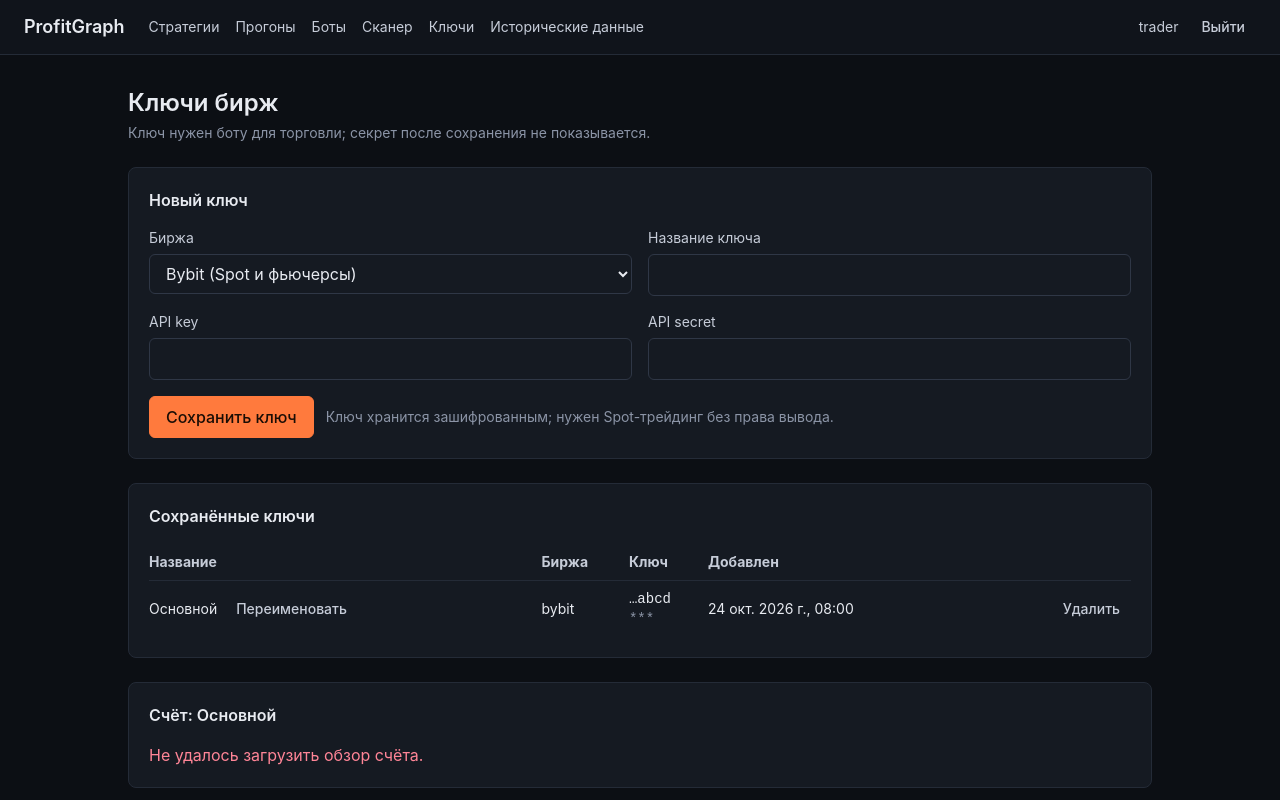
Test case: renaming › renames a key from the list
Click the button "Переименовать" at (292, 609), box [225,594,358,624]
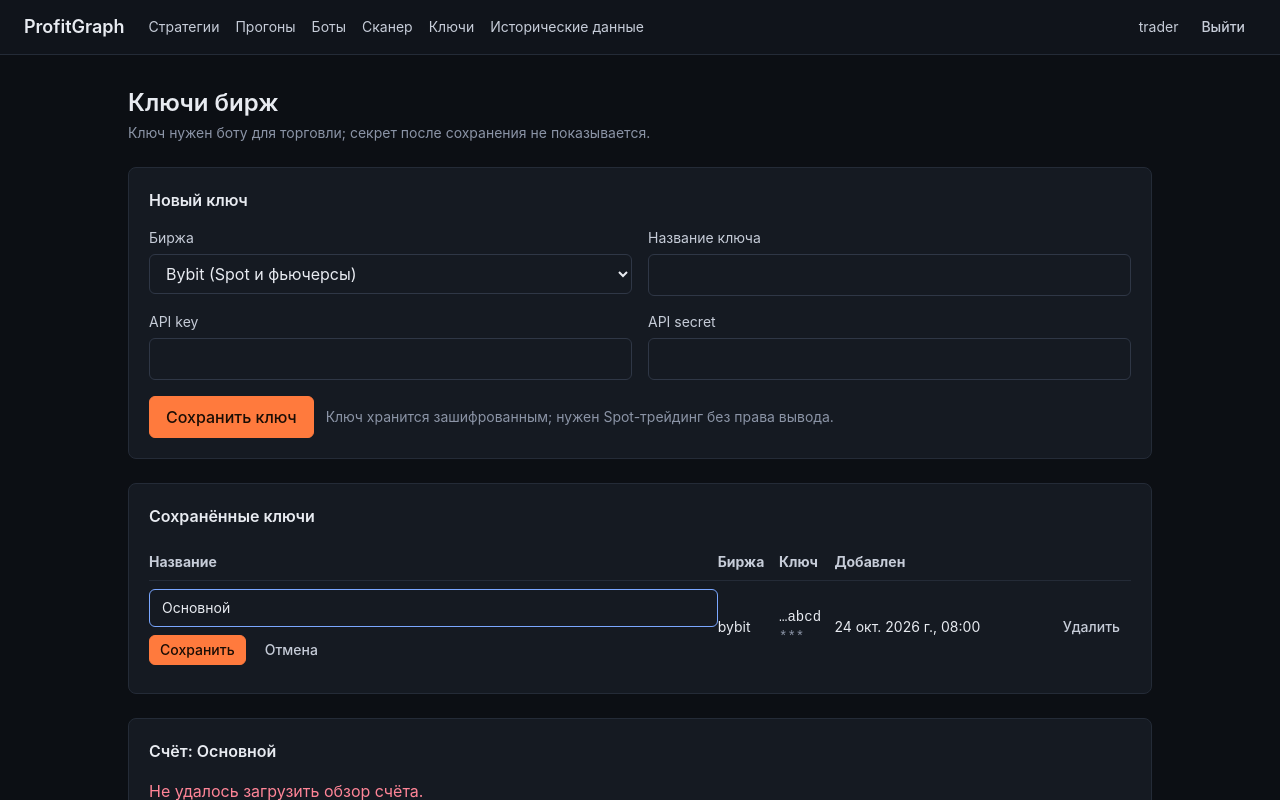
Replace the text in the field named "Название ключа Основной" with "Рабочий" at (433, 608), box [149,589,718,627]
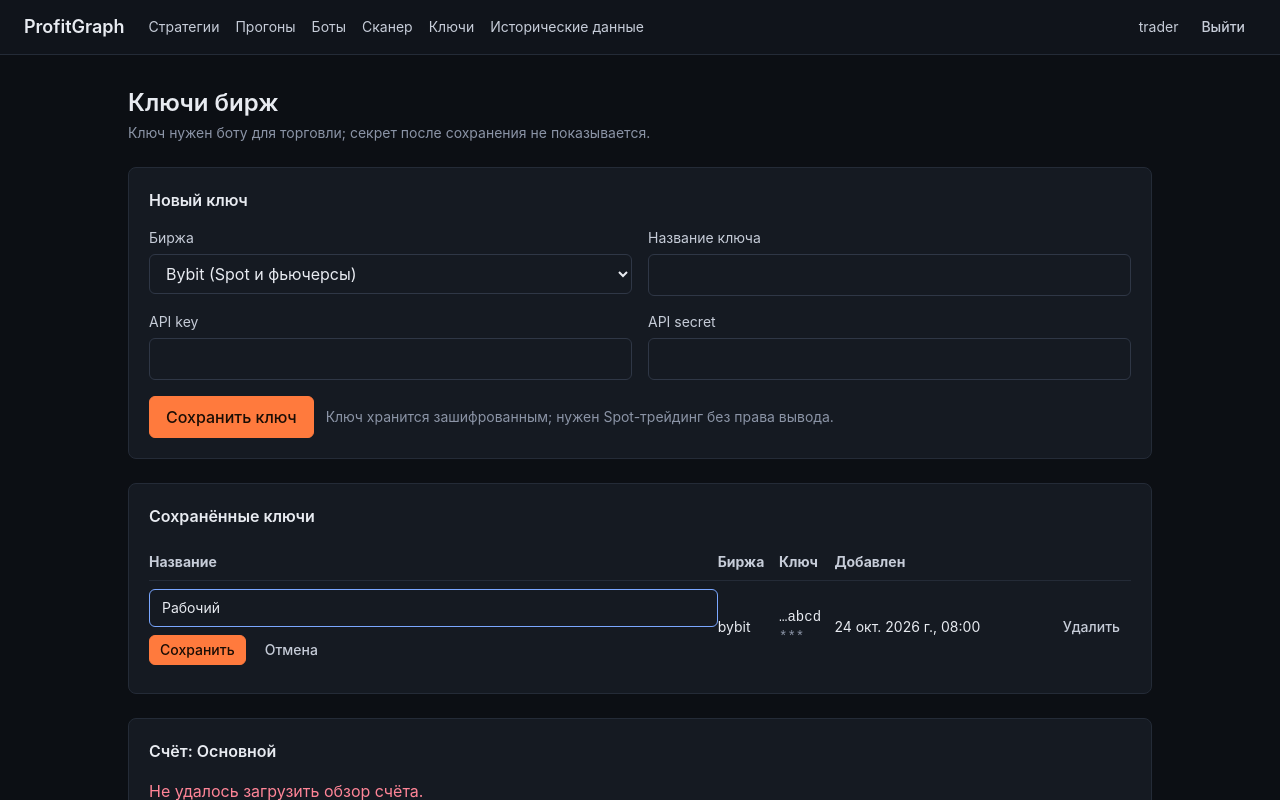
Click the button "Сохранить" at (197, 650), box [149,635,246,665]
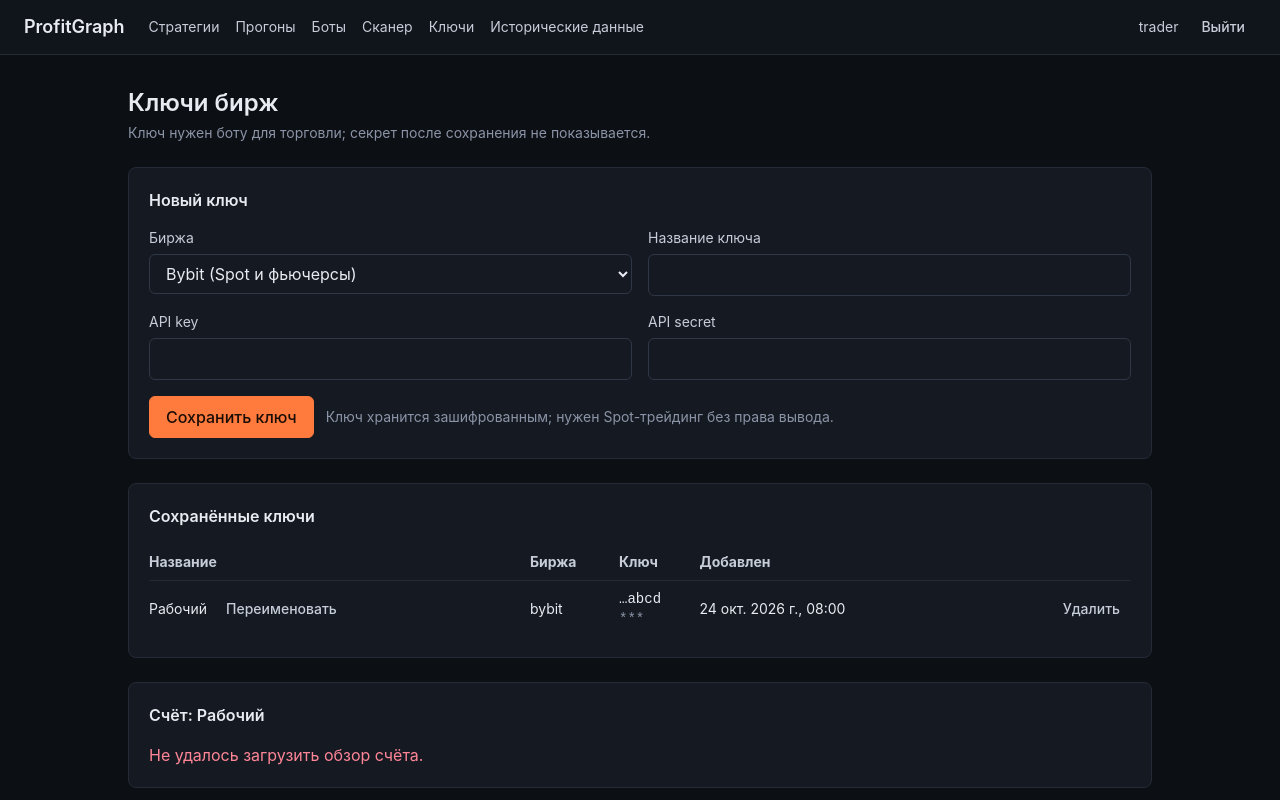
Result: the text "Рабочий" is shown at [149,600,207,617]
